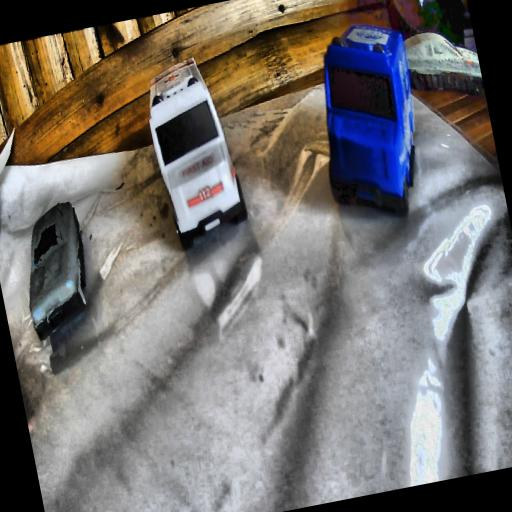ambulance: (136, 48, 254, 253)
normal_car: (8, 196, 102, 344), (401, 24, 485, 107)
police car: (298, 14, 436, 231)
